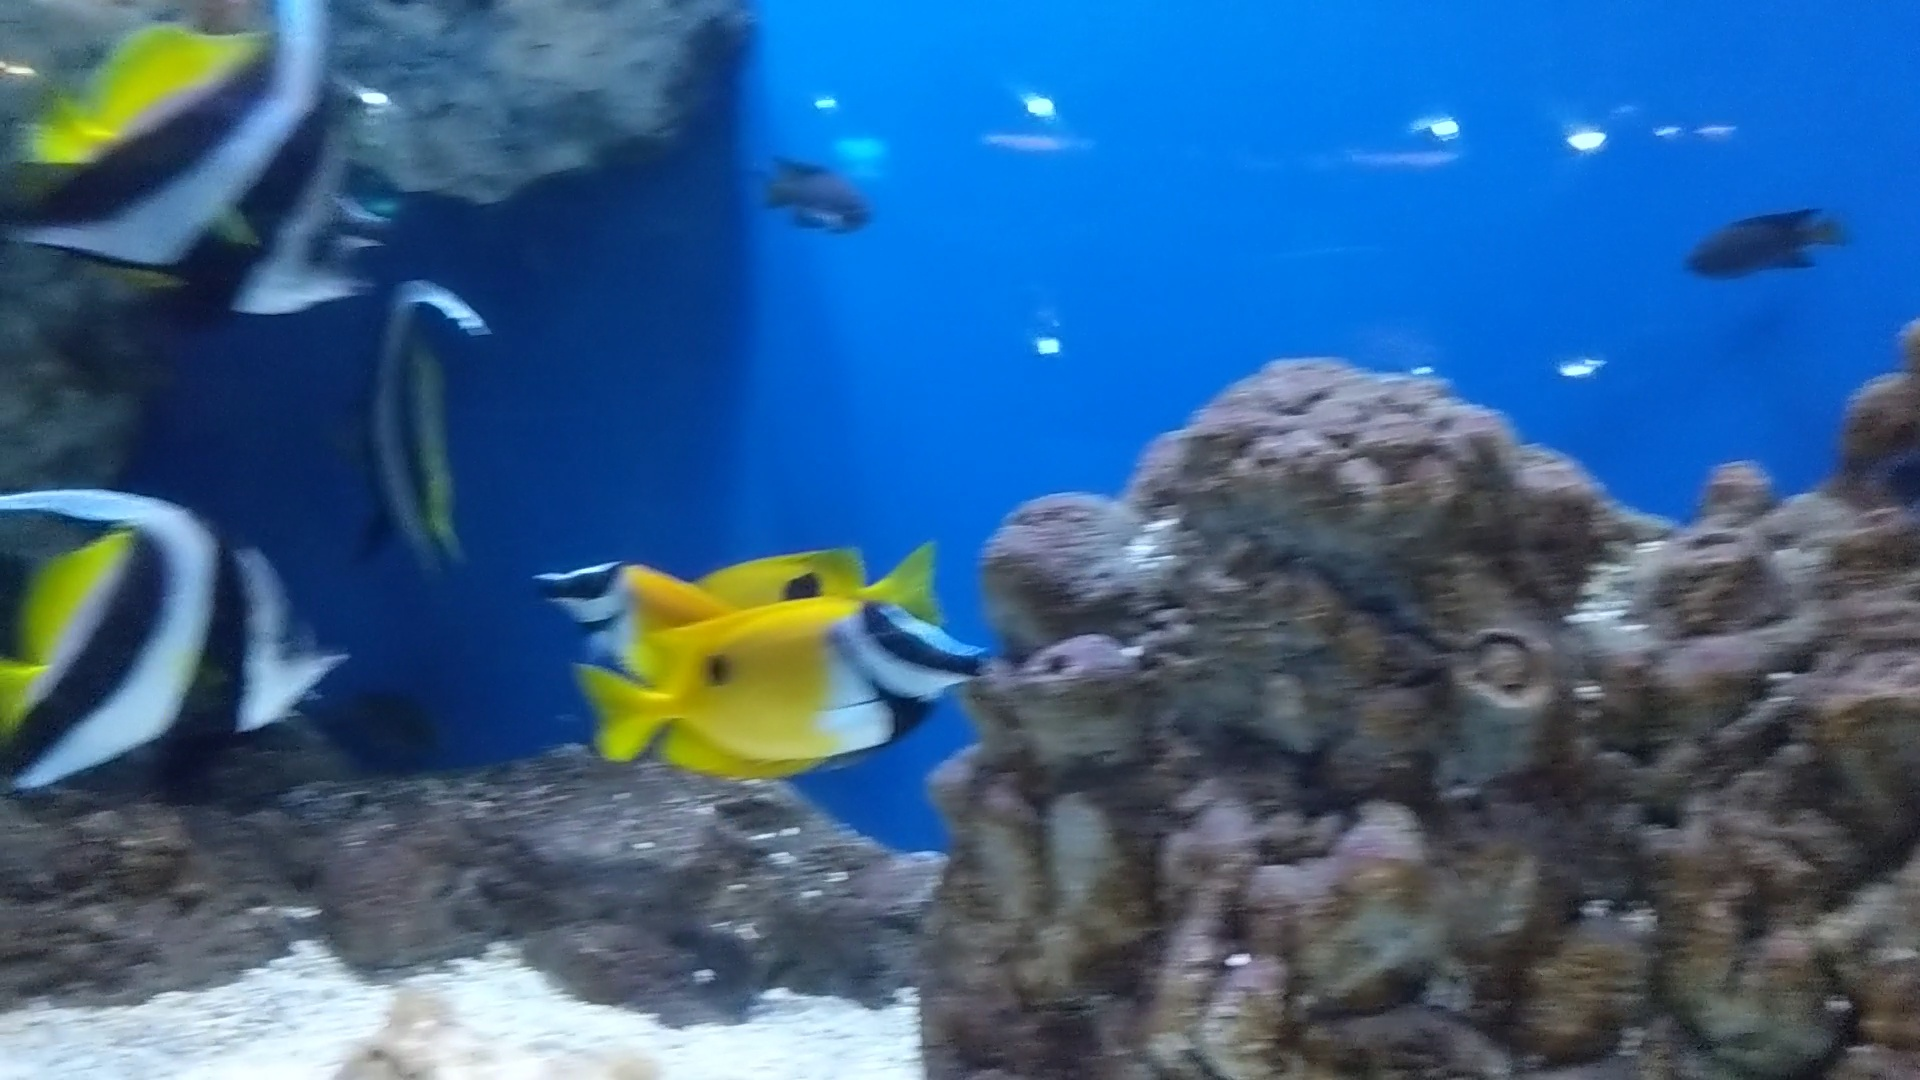moorfish: (3, 0, 413, 309), (11, 468, 359, 816), (336, 262, 479, 596)
rabbitfish: (580, 603, 986, 774), (704, 530, 955, 611), (537, 564, 684, 642)
